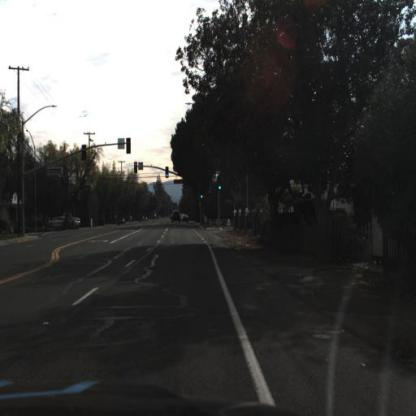trafficLight-Green: (217, 176, 225, 194), (165, 168, 171, 180), (199, 190, 205, 202)
trafficLight-RedLeft: (134, 160, 139, 174)
